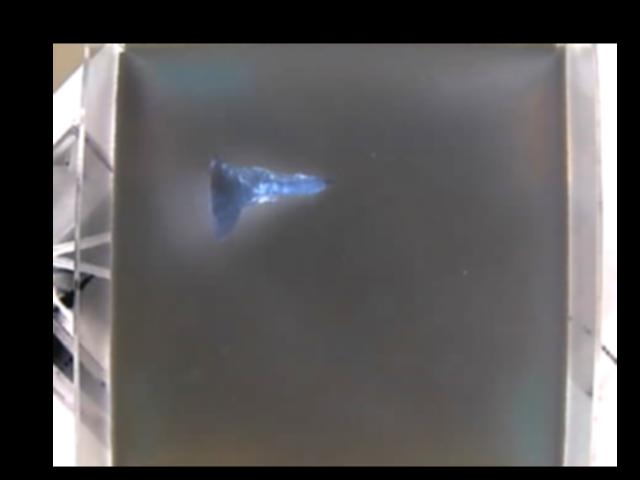Mooli: (203, 158, 338, 239)
